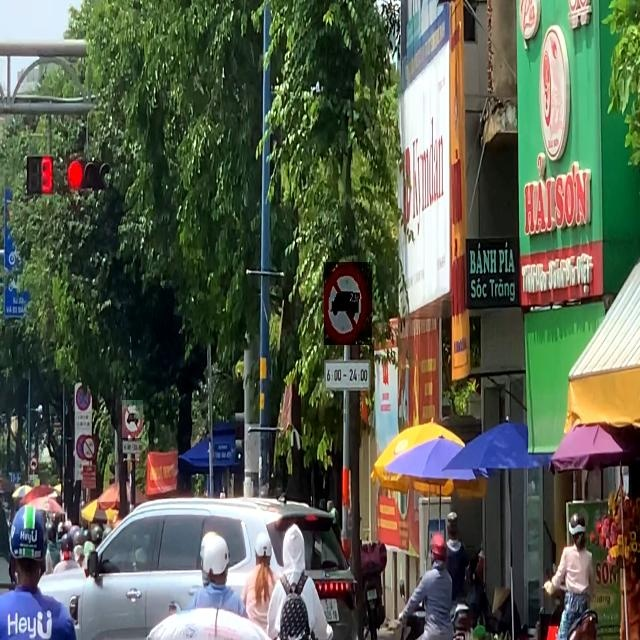bien_cam: (324, 262, 372, 345), (122, 400, 143, 438)
